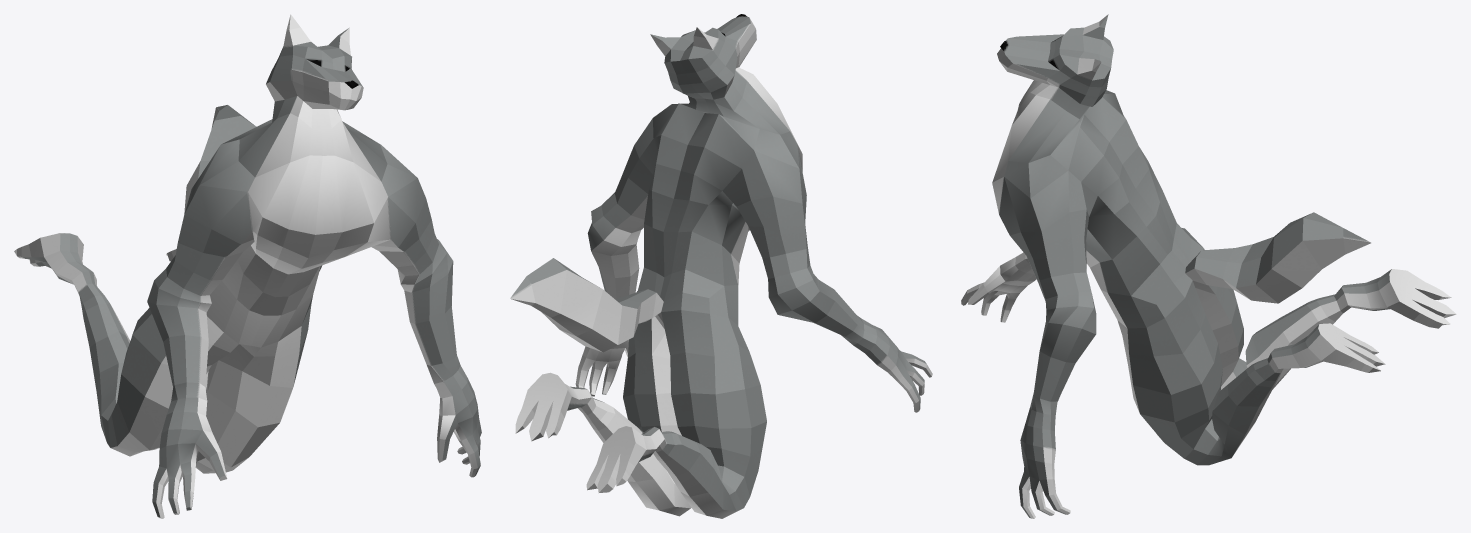
Rendered from WolfDead(57).obj.
3 renders of one model, left to right at view 1: azimuth 30°, elevation 25°; view 2: azimuth 150°, elevation 25°; view 3: azimuth 270°, elevation 25°, orthographic. The views are drawn at different scales.
Visible parts, largest first — view 1: Box001; view 2: Box001; view 3: Box001.
Part boxes in pixels (x1,y1,x2,y2): Box001: [14, 14, 481, 518]; Box001: [510, 14, 932, 518]; Box001: [961, 14, 1456, 518].
Size of the model in its own units: 86.37 by 115 by 112.
